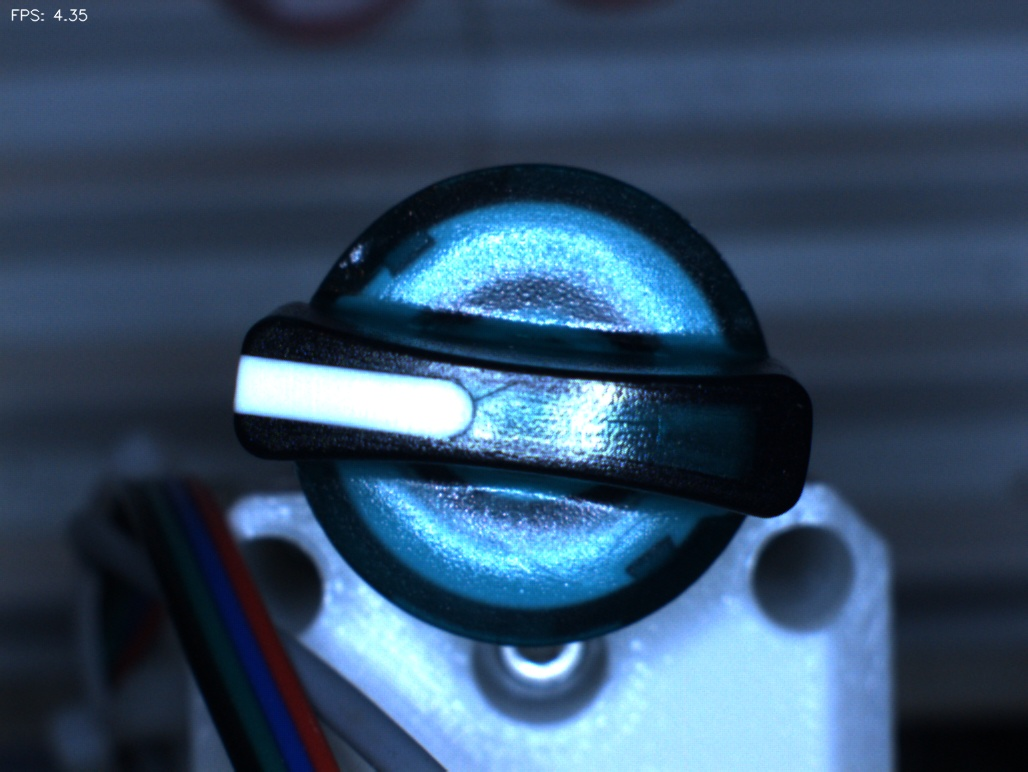Choc: (318, 226, 379, 287)
